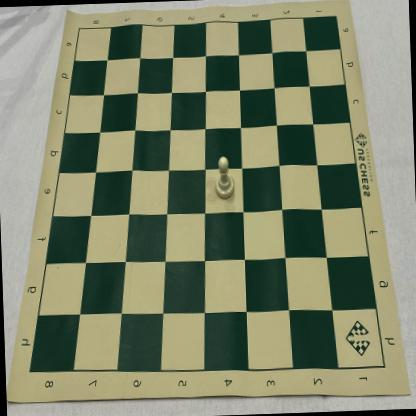white-pawn: (214, 156, 236, 201)
